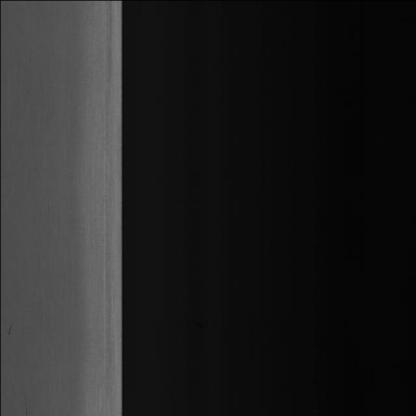inclusion: (1, 315, 16, 343)
